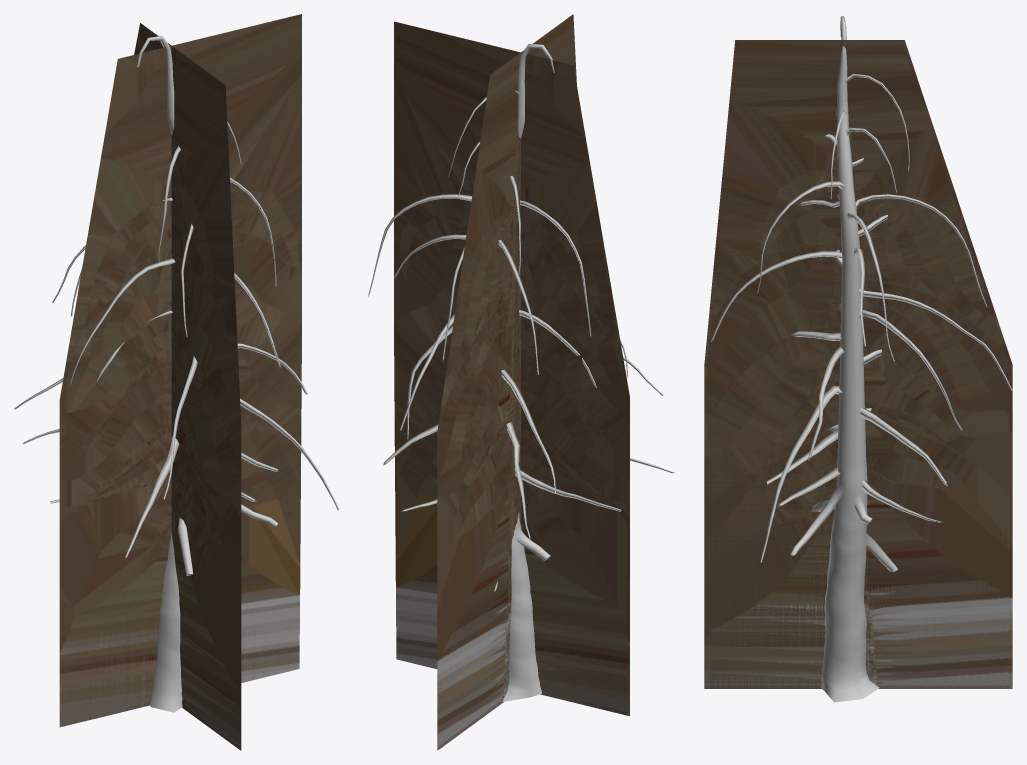
The model's file is Spruce5.fbx.
3 renders of one model, left to right at view 1: azimuth 30°, elevation 25°; view 2: azimuth 150°, elevation 25°; view 3: azimuth 270°, elevation 25°, orthographic. The views are drawn at different scales.
Parts seen in each view (by area): view 1: Billboard, LOD0; view 2: Billboard, LOD0; view 3: Billboard, LOD0.
Boxes of the visible parts, bbox=[...] form: Billboard: bbox=[59, 14, 301, 750]; LOD0: bbox=[14, 36, 339, 712]; Billboard: bbox=[394, 14, 629, 750]; LOD0: bbox=[368, 43, 674, 701]; Billboard: bbox=[704, 40, 1012, 688]; LOD0: bbox=[711, 15, 1012, 702].
Size of what is drawn, in the model's own units: 334 by 879 by 371.
